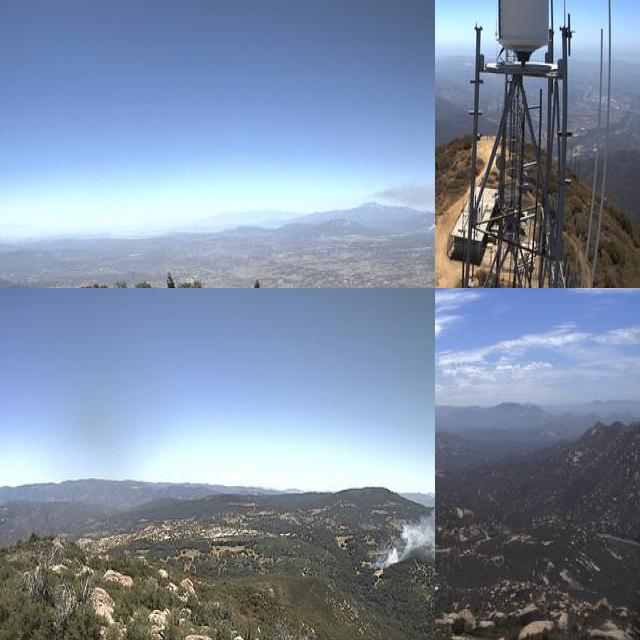smoke: (369, 493, 435, 575), (371, 177, 435, 233)
